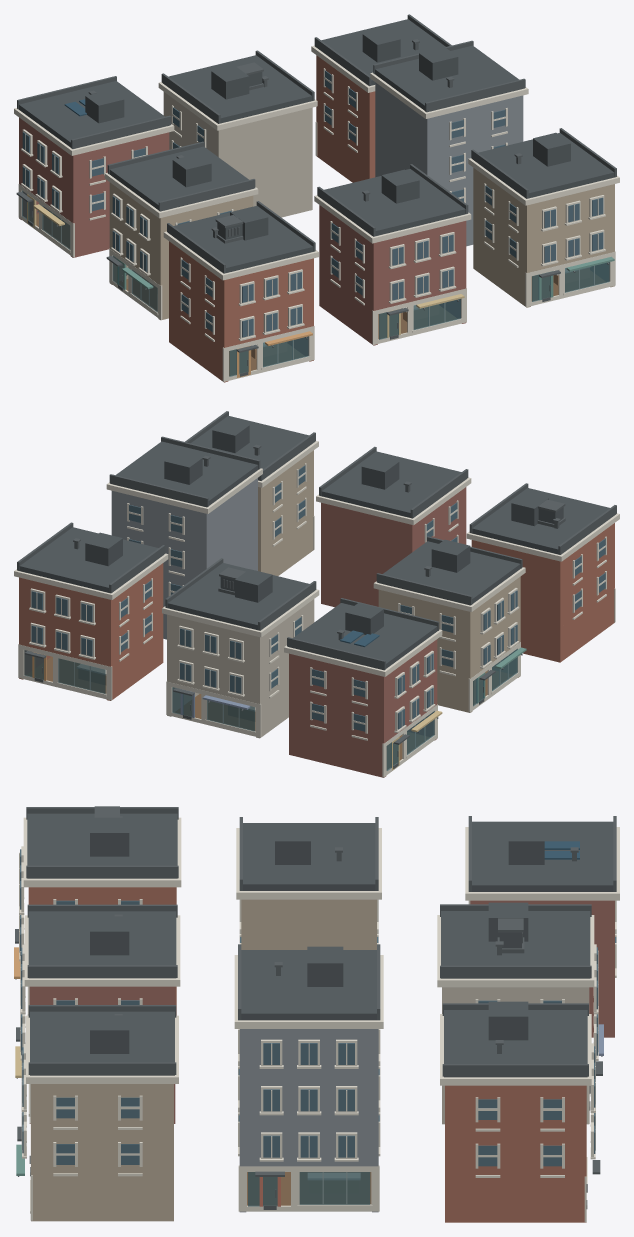
The model's file is downtown-block-m1-p1.glb.
The picture shows the model from 3 angles, top to bottom: view 1: azimuth 30°, elevation 25°; view 2: azimuth 150°, elevation 25°; view 3: azimuth 270°, elevation 25°; orthographic projection. The views are drawn at different scales.
Visible parts, largest first — view 1: urban_townhouse_03.001, urban_townhouse_05.004, urban_townhouse_06.001, urban_townhouse_08.004, urban_townhouse_07.004, urban_townhouse_09.004, urban_townhouse_06.004, urban_townhouse_10.005; view 2: urban_townhouse_08.004, urban_townhouse_10.005, urban_townhouse_09.004, urban_townhouse_05.004, urban_townhouse_07.004, urban_townhouse_06.004, urban_townhouse_03.001, urban_townhouse_06.001; view 3: urban_townhouse_07.004, urban_townhouse_10.005, urban_townhouse_06.001, urban_townhouse_06.004, urban_townhouse_09.004, urban_townhouse_03.001, urban_townhouse_05.004, urban_townhouse_08.004.
Boxes of the visible parts, left/top/right/bottom form: urban_townhouse_03.001: left=314, top=164, right=471, bottom=345; urban_townhouse_05.004: left=163, top=201, right=318, bottom=382; urban_townhouse_06.001: left=468, top=128, right=619, bottom=307; urban_townhouse_08.004: left=14, top=76, right=174, bottom=257; urban_townhouse_07.004: left=370, top=40, right=528, bottom=246; urban_townhouse_09.004: left=158, top=50, right=317, bottom=217; urban_townhouse_06.004: left=104, top=141, right=258, bottom=320; urban_townhouse_10.005: left=311, top=14, right=451, bottom=182; urban_townhouse_08.004: left=284, top=598, right=442, bottom=777; urban_townhouse_10.005: left=14, top=522, right=168, bottom=700; urban_townhouse_09.004: left=162, top=558, right=319, bottom=738; urban_townhouse_05.004: left=466, top=483, right=619, bottom=662; urban_townhouse_07.004: left=106, top=436, right=262, bottom=639; urban_townhouse_06.004: left=373, top=536, right=526, bottom=712; urban_townhouse_03.001: left=316, top=446, right=471, bottom=607; urban_townhouse_06.001: left=185, top=411, right=318, bottom=575; urban_townhouse_07.004: left=234, top=944, right=383, bottom=1212; urban_townhouse_10.005: left=440, top=1001, right=600, bottom=1222; urban_townhouse_06.001: left=16, top=1005, right=178, bottom=1221; urban_townhouse_06.004: left=236, top=817, right=381, bottom=949; urban_townhouse_09.004: left=437, top=902, right=603, bottom=1124; urban_townhouse_03.001: left=15, top=904, right=180, bottom=1123; urban_townhouse_05.004: left=14, top=806, right=181, bottom=1015; urban_townhouse_08.004: left=465, top=816, right=619, bottom=1037.
Size of the model in its own units: 34.4 by 13.69 by 33.73.
